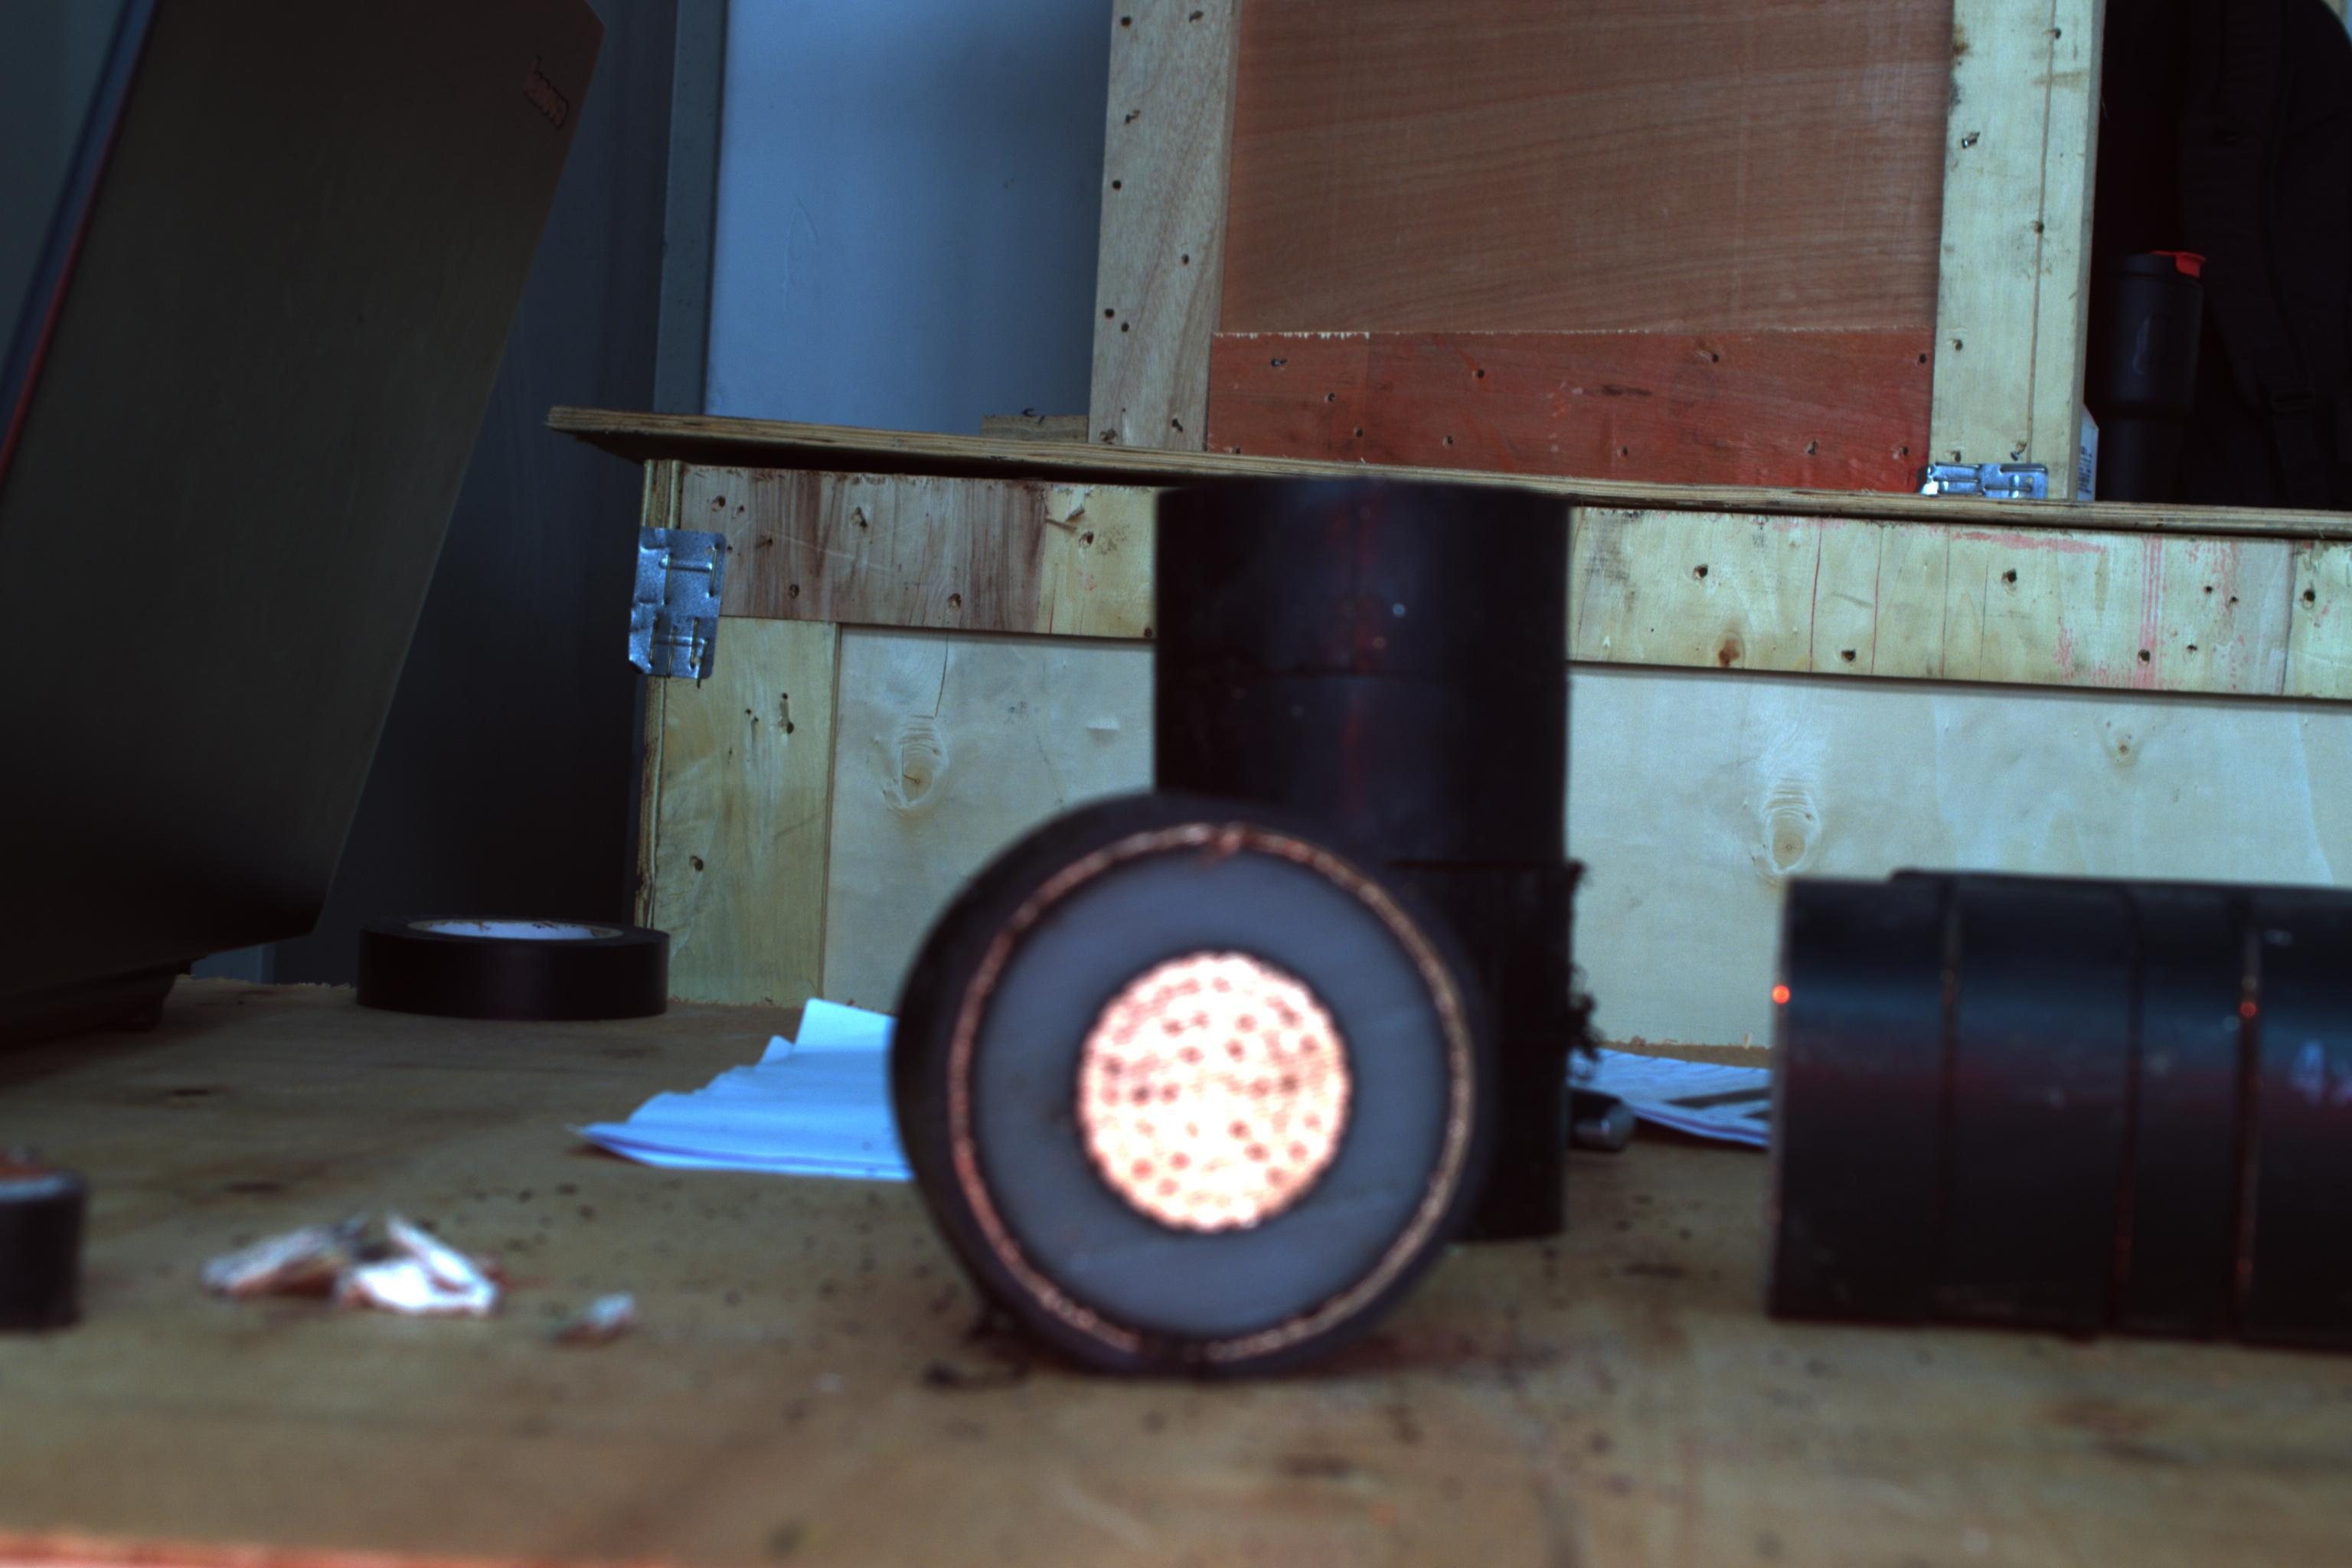YJV_26_35kV_1x630: (924, 817, 1501, 1388)
